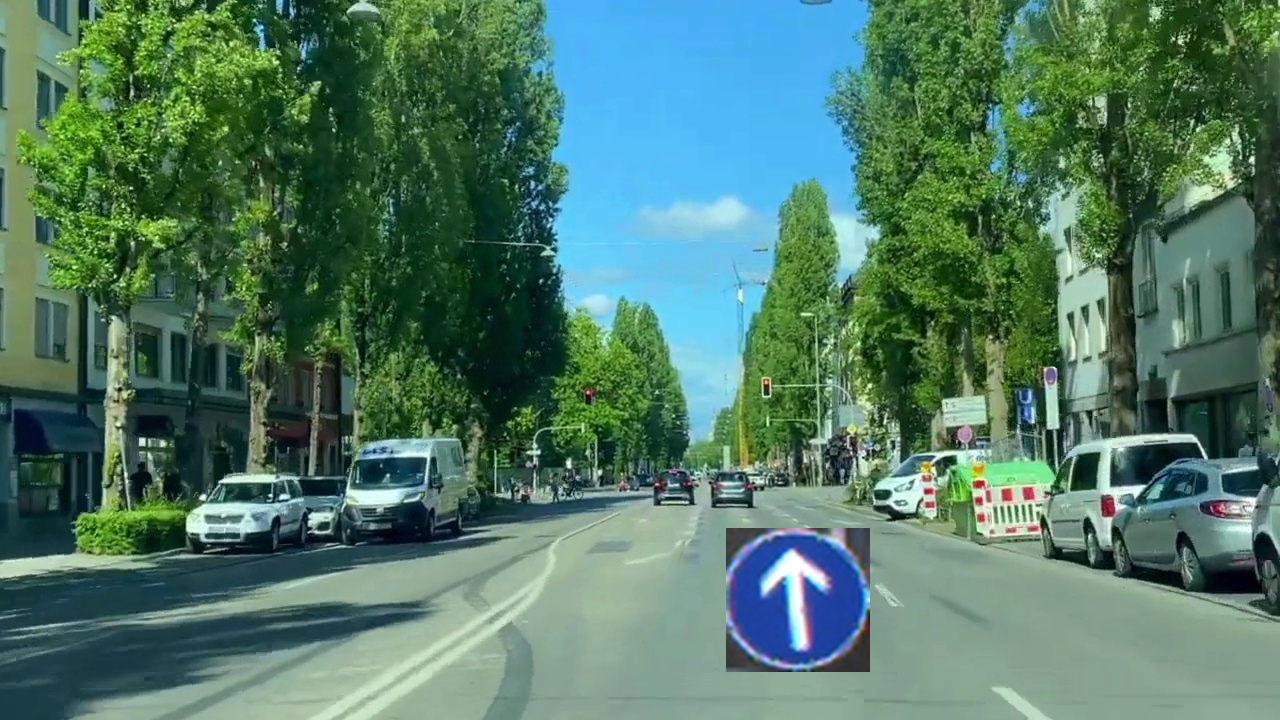Ahead only: (726, 528, 870, 672)
